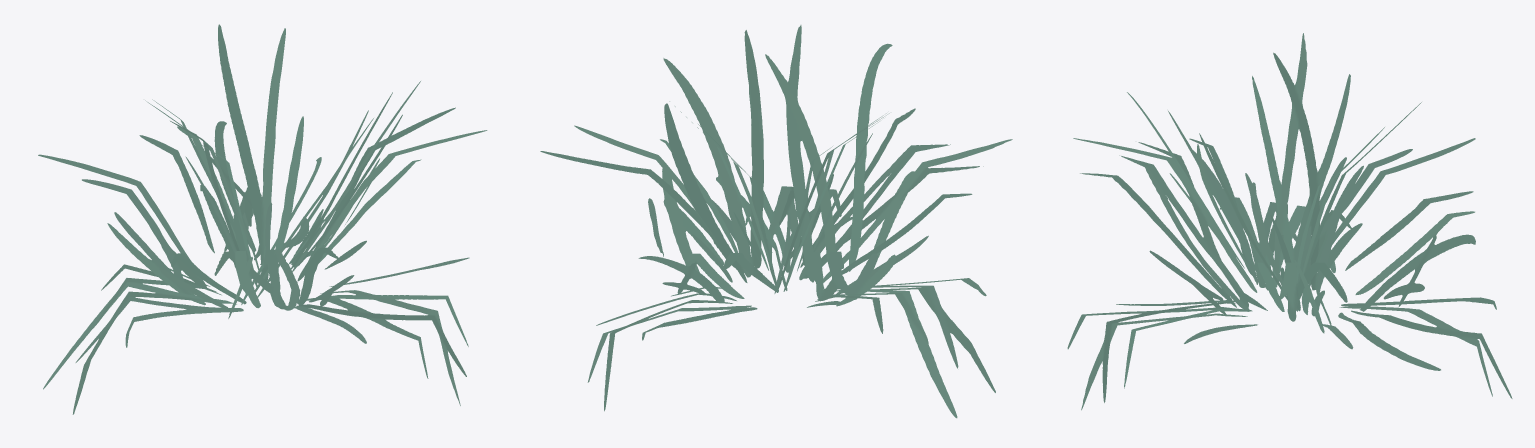
Rendered from fairy_finegrass_fae_1.glb.
The picture shows the model from 3 angles, left to right: view 1: azimuth 30°, elevation 25°; view 2: azimuth 150°, elevation 25°; view 3: azimuth 270°, elevation 25°; orthographic projection. The views are drawn at different scales.
Parts seen in each view (by area): view 1: fairy_finegrass_fae_1; view 2: fairy_finegrass_fae_1; view 3: fairy_finegrass_fae_1.
Boxes of the visible parts, x1,y1,x2,y2 form: fairy_finegrass_fae_1: [38, 24, 487, 414]; fairy_finegrass_fae_1: [540, 25, 1012, 418]; fairy_finegrass_fae_1: [1067, 33, 1512, 410].
Bounding box in the file's own units: 0.4985 × 0.3364 × 0.4605.
1 material, 1 textured.
